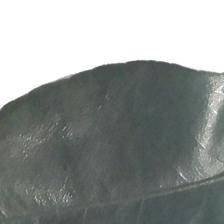healthy: (3, 67, 224, 224)
